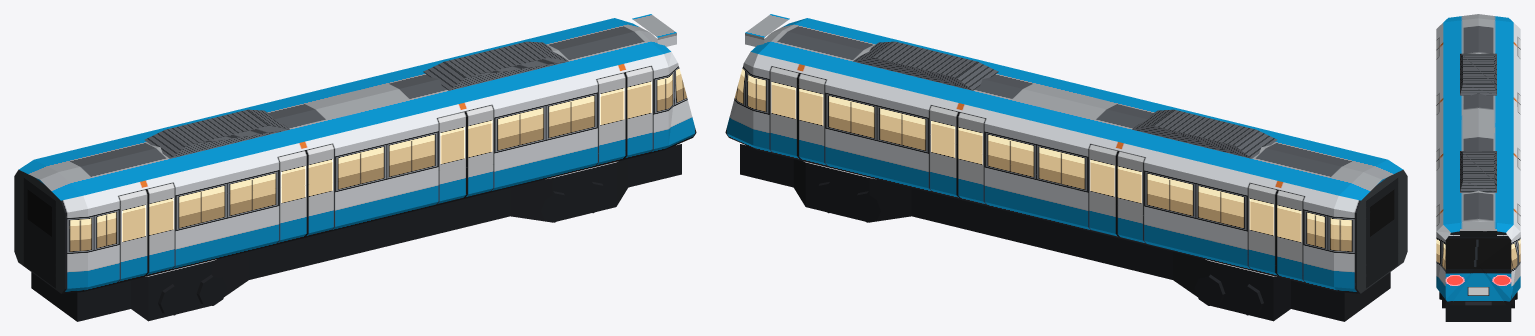
File: paris_idfm_steel__neutral__tail.glb
3 renders of one model, left to right at view 1: azimuth 30°, elevation 25°; view 2: azimuth 150°, elevation 25°; view 3: azimuth 270°, elevation 25°, orthographic. The views are drawn at different scales.
Parts seen in each view (by area): view 1: paris_idfm_steel__neutral__tail; view 2: paris_idfm_steel__neutral__tail; view 3: paris_idfm_steel__neutral__tail.
Boxes of the visible parts, x1,y1,x2,y2 form: paris_idfm_steel__neutral__tail: (14, 14, 696, 321); paris_idfm_steel__neutral__tail: (725, 14, 1407, 321); paris_idfm_steel__neutral__tail: (1436, 14, 1520, 321).
Bounding box in the file's own units: 15.15 × 3.47 × 2.44.
1 material, 1 textured.
